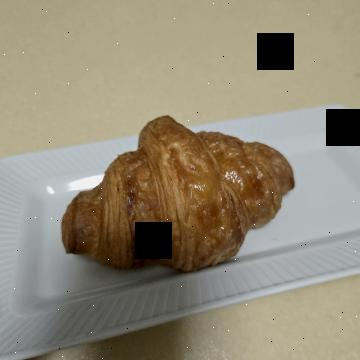croissant: (100, 55, 279, 311)
